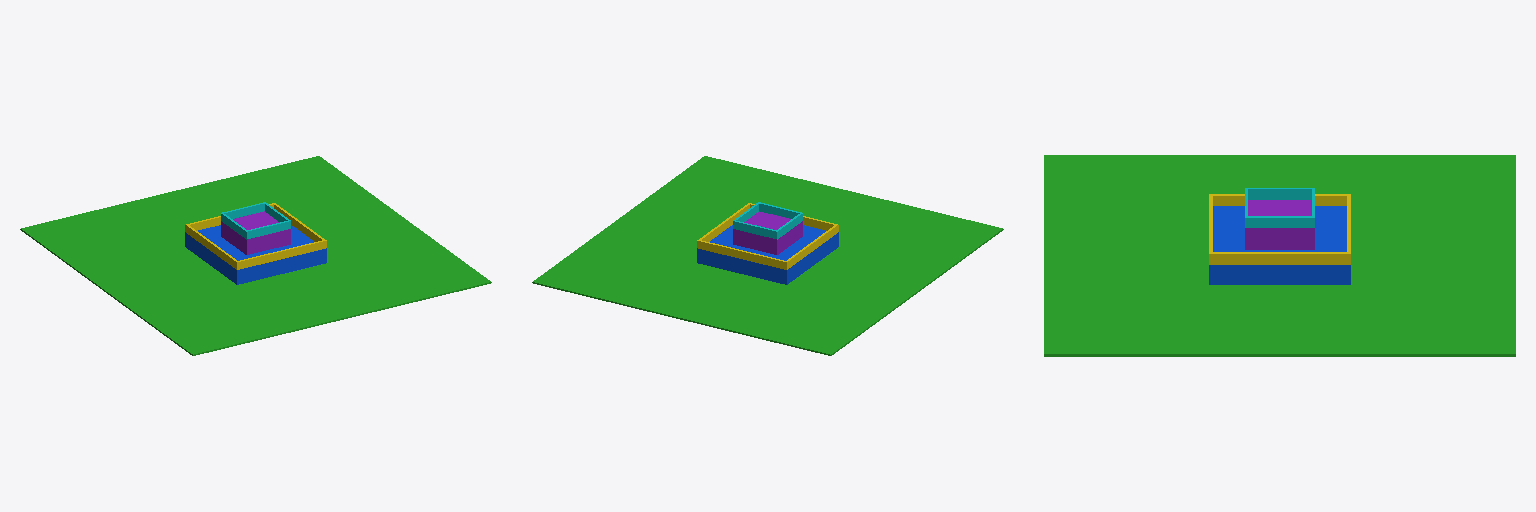
URDF robot description (hero):
<?xml version="1.0"?>

<robot name="hero">

  <!-- ================================================= -->
  <!-- ROOT / GROUND                                     -->
  <!-- ================================================= -->

  <link name="ground">

    <visual>
      <geometry>
        <box size="20.0 20.0 0.10"/>
      </geometry>

      <material name="green">
        <color rgba="0.2 0.7 0.2 1.0"/>
      </material>
    </visual>

    <collision>
      <geometry>
        <box size="20.0 20.0 0.10"/>
      </geometry>
    </collision>

  </link>


  <!-- ================================================= -->
  <!-- LEVEL 1                                           -->
  <!-- ================================================= -->

  <link name="level_1">

    <visual>
      <geometry>
        <box size="6.0 6.0 1.0"/>
      </geometry>

      <material name="blue">
        <color rgba="0.1 0.4 0.9 1.0"/>
      </material>
    </visual>

    <collision>
      <geometry>
        <box size="6.0 6.0 1.0"/>
      </geometry>
    </collision>

  </link>

  <joint name="level_1_joint" type="fixed">
    <parent link="ground"/>
    <child link="level_1"/>
    <origin xyz="0 0 0.5"/>
  </joint>


  <!-- ================================================= -->
  <!-- LEVEL 2                                           -->
  <!-- ================================================= -->

  <link name="level_2">

    <visual>
      <geometry>
        <box size="3.0 3.0 1.0"/>
      </geometry>

      <material name="purple">
        <color rgba="0.6 0.2 0.8 1.0"/>
      </material>
    </visual>

    <collision>
      <geometry>
        <box size="3.0 3.0 1.0"/>
      </geometry>
    </collision>

  </link>

  <joint name="level_2_joint" type="fixed">
    <parent link="ground"/>
    <child link="level_2"/>
    <origin xyz="0 0 1.5"/>
  </joint>


  <!-- ================================================= -->
  <!-- LEVEL 1 WALLS                                     -->
  <!-- ================================================= -->

  <!-- NORTH -->

  <link name="level1_north_wall">

    <visual>
      <geometry>
        <box size="6.0 0.15 0.50"/>
      </geometry>

      <material name="yellow">
        <color rgba="0.9 0.8 0.1 1.0"/>
      </material>
    </visual>

    <collision>
      <geometry>
        <box size="6.0 0.15 0.50"/>
      </geometry>
    </collision>

  </link>

  <joint name="level1_north_joint" type="fixed">
    <parent link="ground"/>
    <child link="level1_north_wall"/>
    <origin xyz="0 2.925 1.25"/>
  </joint>


  <!-- SOUTH -->

  <link name="level1_south_wall">

    <visual>
      <geometry>
        <box size="6.0 0.15 0.50"/>
      </geometry>

      <material name="yellow">
        <color rgba="0.9 0.8 0.1 1.0"/>
      </material>
    </visual>

    <collision>
      <geometry>
        <box size="6.0 0.15 0.50"/>
      </geometry>
    </collision>

  </link>

  <joint name="level1_south_joint" type="fixed">
    <parent link="ground"/>
    <child link="level1_south_wall"/>
    <origin xyz="0 -2.925 1.25"/>
  </joint>


  <!-- EAST -->

  <link name="level1_east_wall">

    <visual>
      <geometry>
        <box size="0.15 6.0 0.50"/>
      </geometry>

      <material name="yellow">
        <color rgba="0.9 0.8 0.1 1.0"/>
      </material>
    </visual>

    <collision>
      <geometry>
        <box size="0.15 6.0 0.50"/>
      </geometry>
    </collision>

  </link>

  <joint name="level1_east_joint" type="fixed">
    <parent link="ground"/>
    <child link="level1_east_wall"/>
    <origin xyz="2.925 0 1.25"/>
  </joint>


  <!-- WEST -->

  <link name="level1_west_wall">

    <visual>
      <geometry>
        <box size="0.15 6.0 0.50"/>
      </geometry>

      <material name="yellow">
        <color rgba="0.9 0.8 0.1 1.0"/>
      </material>
    </visual>

    <collision>
      <geometry>
        <box size="0.15 6.0 0.50"/>
      </geometry>
    </collision>

  </link>

  <joint name="level1_west_joint" type="fixed">
    <parent link="ground"/>
    <child link="level1_west_wall"/>
    <origin xyz="-2.925 0 1.25"/>
  </joint>


  <!-- ================================================= -->
  <!-- LEVEL 2 WALLS                                     -->
  <!-- ================================================= -->

  <!-- NORTH -->

  <link name="level2_north_wall">

    <visual>
      <geometry>
        <box size="3.0 0.15 0.50"/>
      </geometry>

      <material name="cyan">
        <color rgba="0.1 0.8 0.8 1.0"/>
      </material>
    </visual>

    <collision>
      <geometry>
        <box size="3.0 0.15 0.50"/>
      </geometry>
    </collision>

  </link>

  <joint name="level2_north_joint" type="fixed">
    <parent link="ground"/>
    <child link="level2_north_wall"/>
    <origin xyz="0 1.425 2.25"/>
  </joint>


  <!-- SOUTH -->

  <link name="level2_south_wall">

    <visual>
      <geometry>
        <box size="3.0 0.15 0.50"/>
      </geometry>

      <material name="cyan">
        <color rgba="0.1 0.8 0.8 1.0"/>
      </material>
    </visual>

    <collision>
      <geometry>
        <box size="3.0 0.15 0.50"/>
      </geometry>
    </collision>

  </link>

  <joint name="level2_south_joint" type="fixed">
    <parent link="ground"/>
    <child link="level2_south_wall"/>
    <origin xyz="0 -1.425 2.25"/>
  </joint>


  <!-- EAST -->

  <link name="level2_east_wall">

    <visual>
      <geometry>
        <box size="0.15 3.0 0.50"/>
      </geometry>

      <material name="cyan">
        <color rgba="0.1 0.8 0.8 1.0"/>
      </material>
    </visual>

    <collision>
      <geometry>
        <box size="0.15 3.0 0.50"/>
      </geometry>
    </collision>

  </link>

  <joint name="level2_east_joint" type="fixed">
    <parent link="ground"/>
    <child link="level2_east_wall"/>
    <origin xyz="1.425 0 2.25"/>
  </joint>


  <!-- WEST -->

  <link name="level2_west_wall">

    <visual>
      <geometry>
        <box size="0.15 3.0 0.50"/>
      </geometry>

      <material name="cyan">
        <color rgba="0.1 0.8 0.8 1.0"/>
      </material>
    </visual>

    <collision>
      <geometry>
        <box size="0.15 3.0 0.50"/>
      </geometry>
    </collision>

  </link>

  <joint name="level2_west_joint" type="fixed">
    <parent link="ground"/>
    <child link="level2_west_wall"/>
    <origin xyz="-1.425 0 2.25"/>
  </joint>

</robot>

--- Render facts (derived) ---
3 views of the same robot in one strip: view 1: azimuth 30°, elevation 25°; view 2: azimuth 150°, elevation 25°; view 3: azimuth 270°, elevation 25° (orthographic).
Robot: hero — 11 links, 10 joints (10 fixed); root link ground; default pose: every joint at zero.
Links seen in each view (by area): view 1: ground, level_1, level_2, level1_south_wall; view 2: ground, level_1, level_2, level1_north_wall; view 3: ground, level_1, level_2, level1_east_wall, level2_east_wall, level1_west_wall, level2_west_wall.
Boxes of the visible links, <box> form: ground: <box>20,156,491,355</box>; level_1: <box>185,225,326,284</box>; level_2: <box>221,211,290,254</box>; level1_south_wall: <box>236,240,326,269</box>; ground: <box>532,156,1003,355</box>; level_1: <box>697,225,838,284</box>; level_2: <box>733,211,802,254</box>; level1_north_wall: <box>697,240,787,269</box>; ground: <box>1044,155,1515,356</box>; level_1: <box>1209,206,1350,284</box>; level_2: <box>1245,200,1314,249</box>; level1_east_wall: <box>1209,252,1349,264</box>; level2_east_wall: <box>1245,216,1314,227</box>; level1_west_wall: <box>1209,194,1348,205</box>; level2_west_wall: <box>1248,188,1311,199</box>.
Size in the robot's own frame: 20 by 20 by 2.55 metres.
Geometry: primitives only (box / cylinder / sphere), no mesh files.
